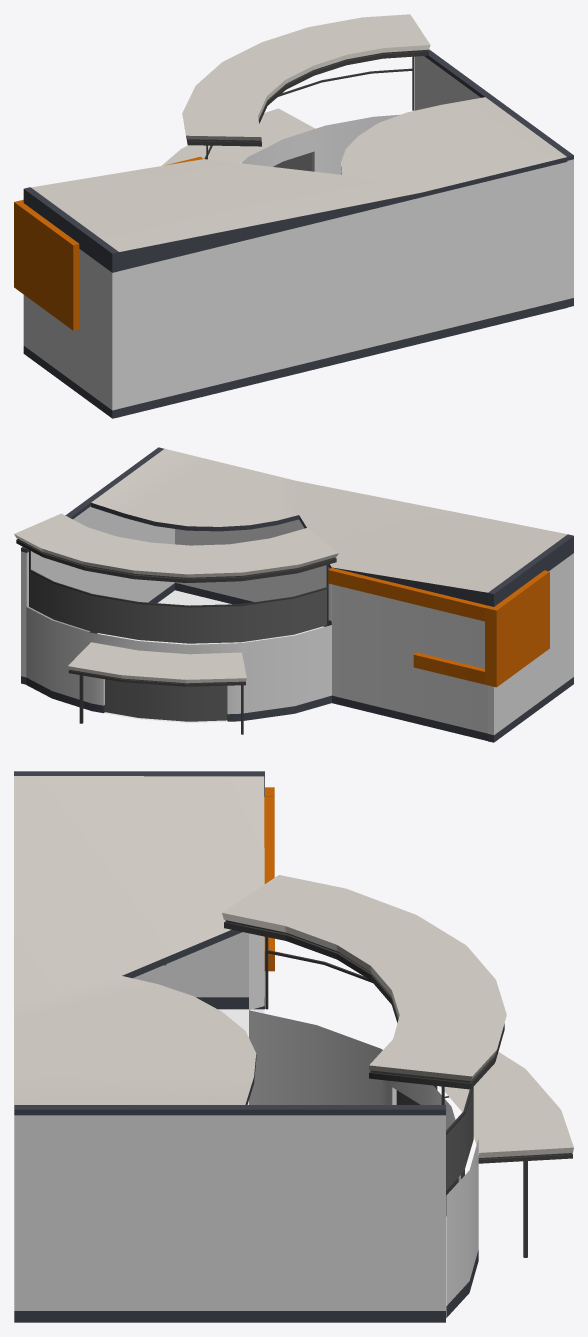
3 renders of one model, top to bottom at view 1: azimuth 30°, elevation 25°; view 2: azimuth 150°, elevation 25°; view 3: azimuth 270°, elevation 25°, orthographic. The views are drawn at different scales.
Visible parts, largest first — view 1: Local_tipo3; view 2: Local_tipo3; view 3: Local_tipo3.
Part boxes in pixels (left/top/right/bottom): Local_tipo3: left=14, top=14, right=573, bottom=418; Local_tipo3: left=14, top=447, right=573, bottom=742; Local_tipo3: left=14, top=771, right=573, bottom=1322.
Size of the model in its own units: 0.5838 by 0.2072 by 0.4286.
